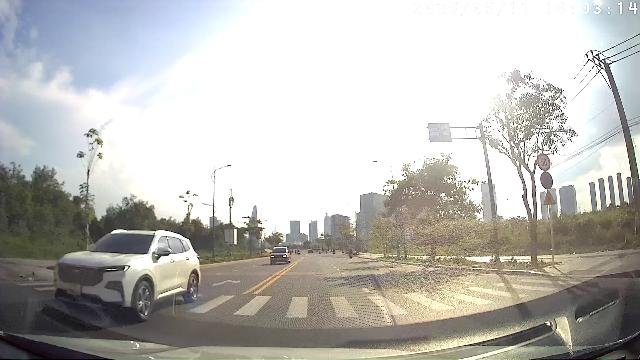127-toc-do-toi-da-50: (537, 154, 551, 170)
